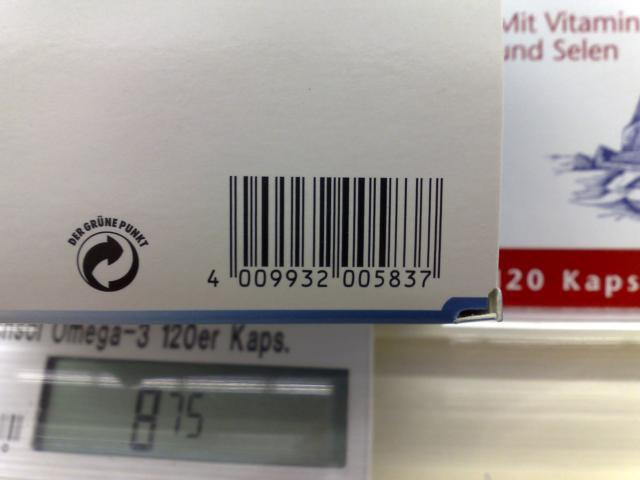Barcode: (197, 167, 448, 297)
